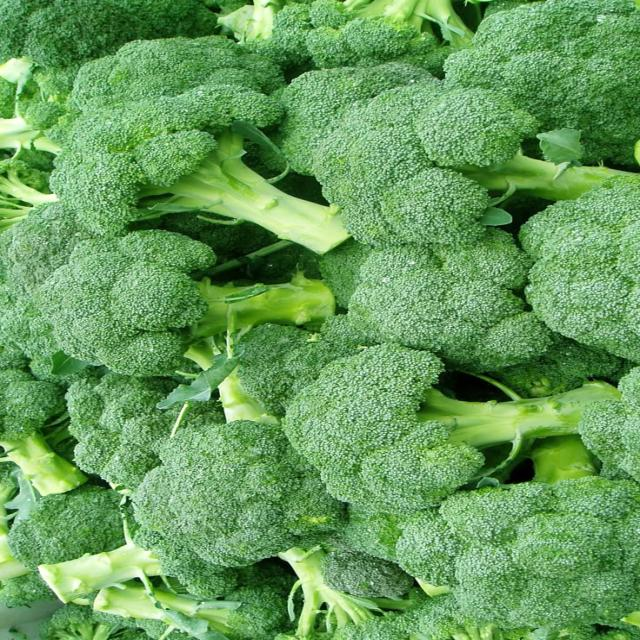broccoli: (52, 36, 348, 253), (280, 71, 628, 246), (285, 344, 619, 513), (396, 436, 639, 631), (38, 230, 333, 375), (446, 0, 639, 164), (348, 228, 551, 371), (520, 178, 639, 360), (67, 373, 175, 488), (0, 369, 86, 496), (7, 485, 124, 569), (490, 334, 629, 397), (579, 368, 639, 481), (0, 160, 56, 230), (0, 463, 28, 582)
